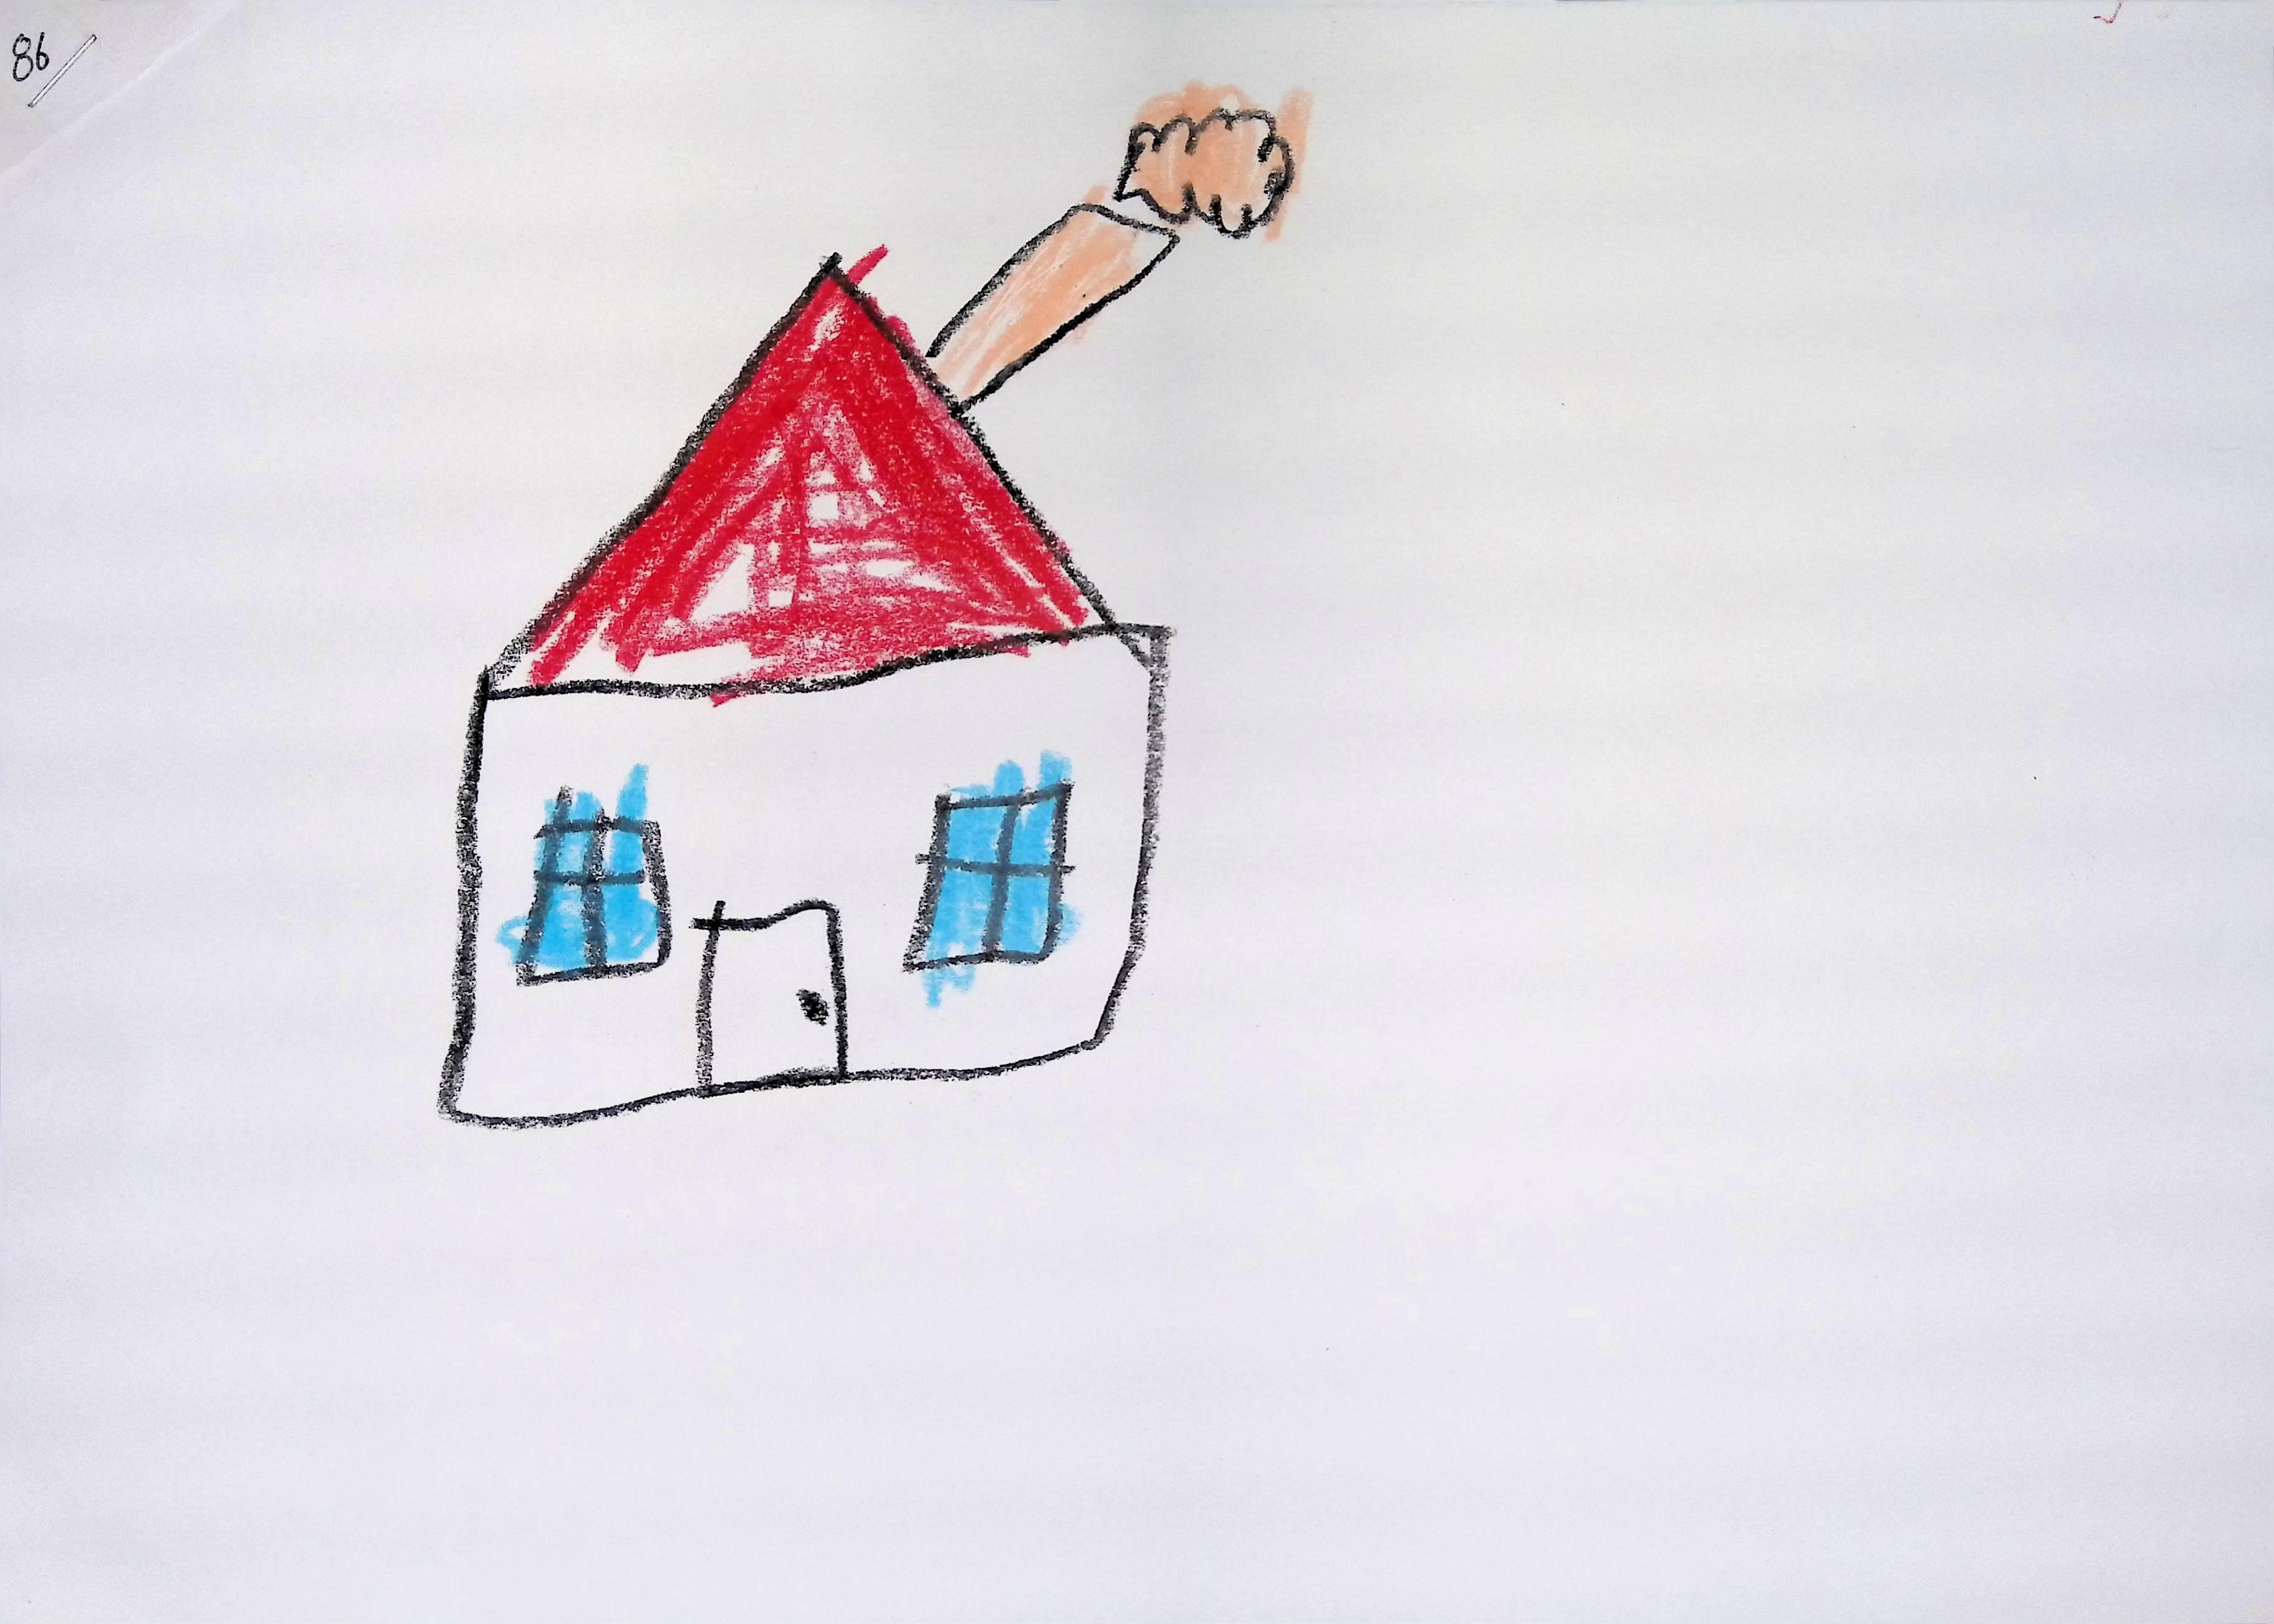chimney: (909, 193, 1184, 411)
door: (696, 900, 845, 1086)
house: (425, 195, 1186, 1139)
roof: (474, 258, 1132, 692)
wall: (438, 629, 1174, 1130)
window: (907, 779, 1074, 981), (517, 819, 670, 986)
